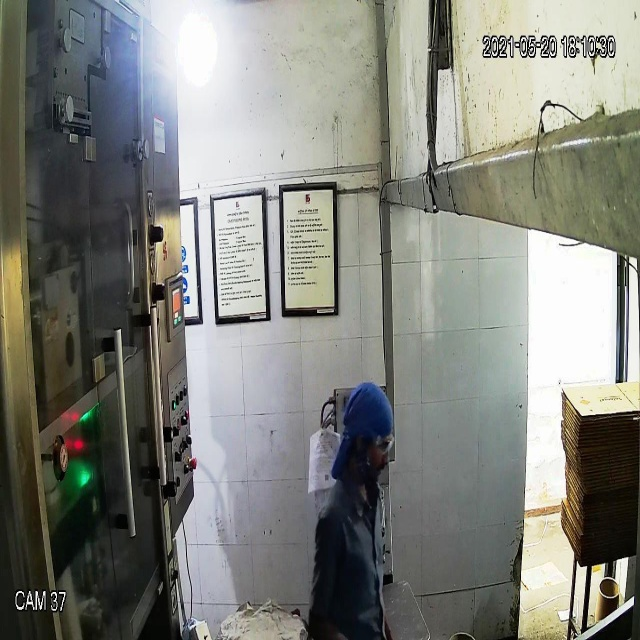Gafas: (352, 431, 399, 462)
